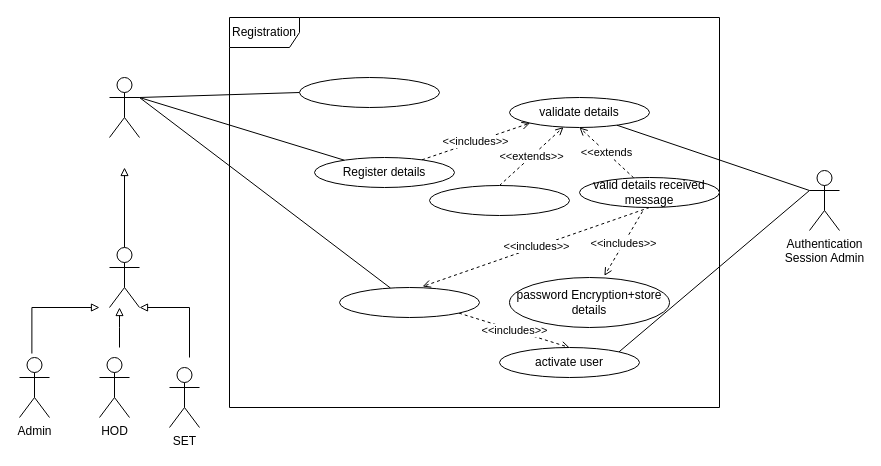
Image size: 881x466. Some labels were removed from this diagram. The centre of each missing label's shape, as x and y in pixels:
email activation: the point at 409,302
Enter details: the point at 369,92
error in details: the point at 499,200
Tutor: the point at 124,277
User: the point at 124,107
